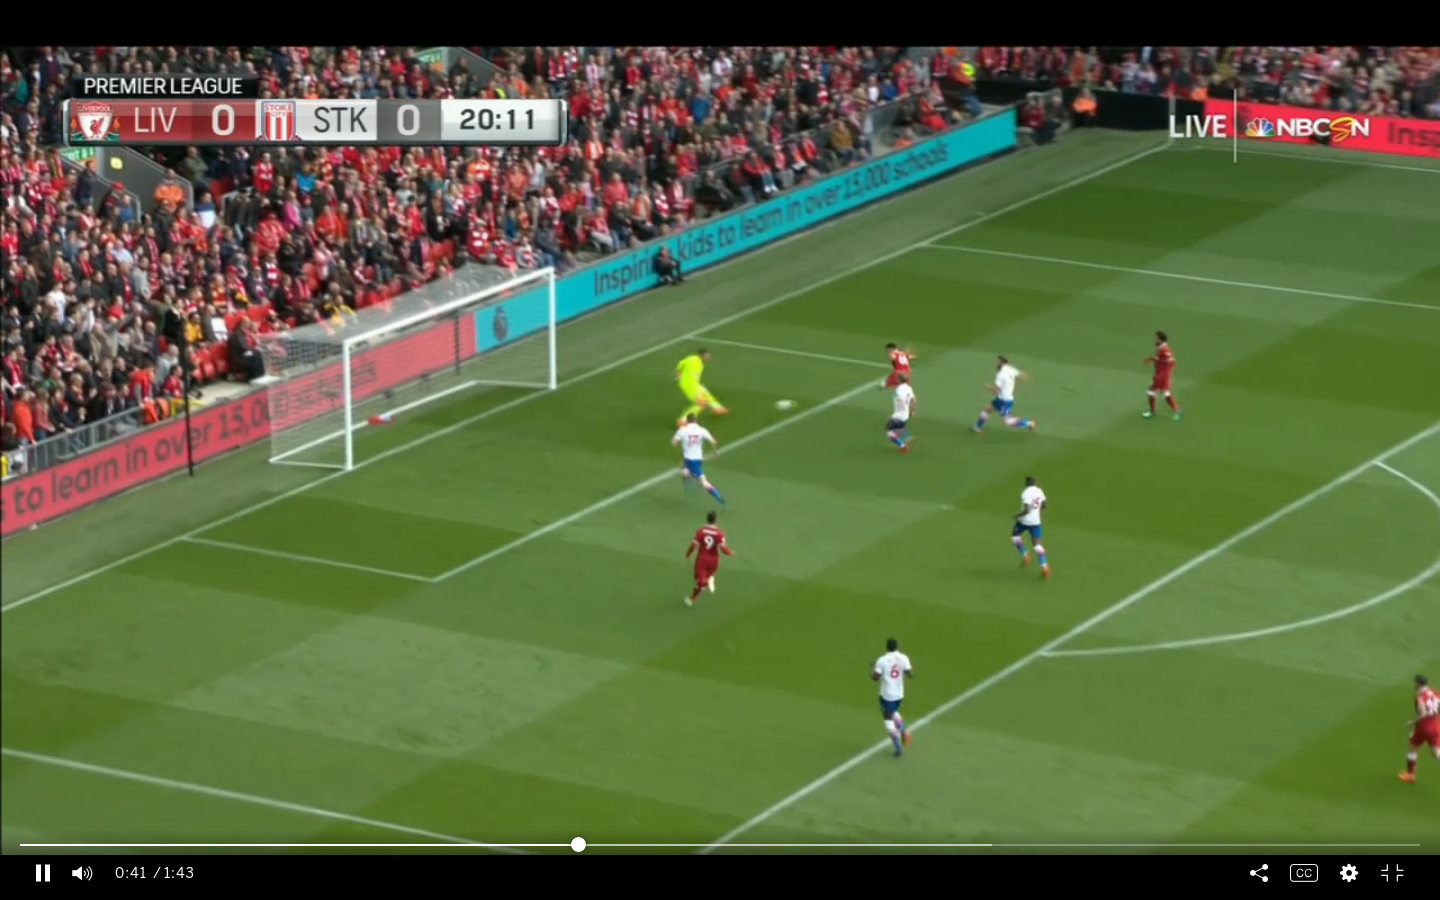soccer player: (867, 636, 918, 762), (970, 351, 1036, 439), (1398, 668, 1439, 789), (668, 343, 728, 425), (1139, 325, 1185, 432), (684, 506, 730, 611), (1010, 472, 1050, 582), (673, 411, 718, 503), (882, 374, 921, 452), (878, 339, 918, 392)
soccerball: (772, 391, 798, 420)
